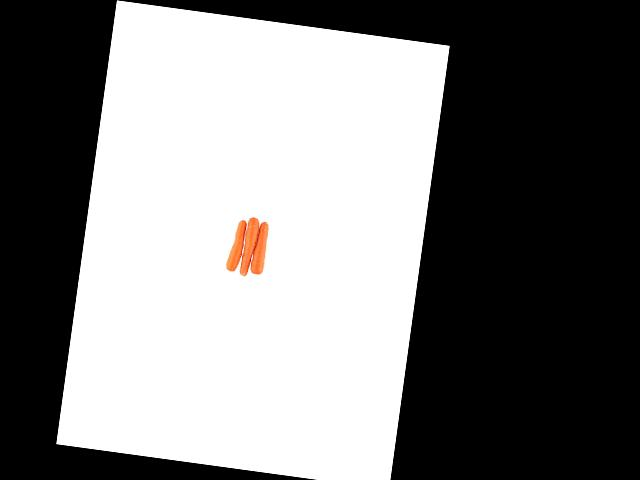carrot: (250, 215, 272, 279)
